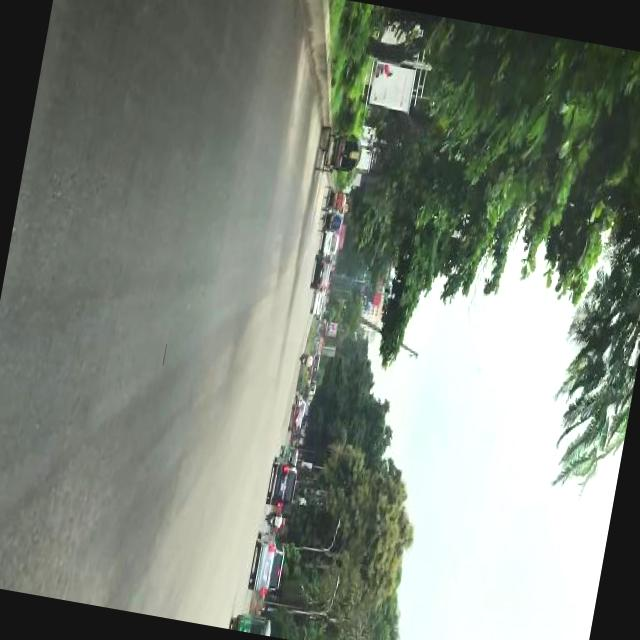car: (309, 260, 329, 292), (287, 407, 304, 434), (308, 292, 324, 320)
motorcycle: (312, 125, 364, 180), (227, 609, 274, 636), (319, 186, 347, 216), (317, 210, 344, 237), (263, 512, 285, 532), (278, 447, 299, 462), (296, 352, 314, 369)
truck: (248, 530, 288, 586), (265, 458, 298, 510), (318, 232, 338, 260)
